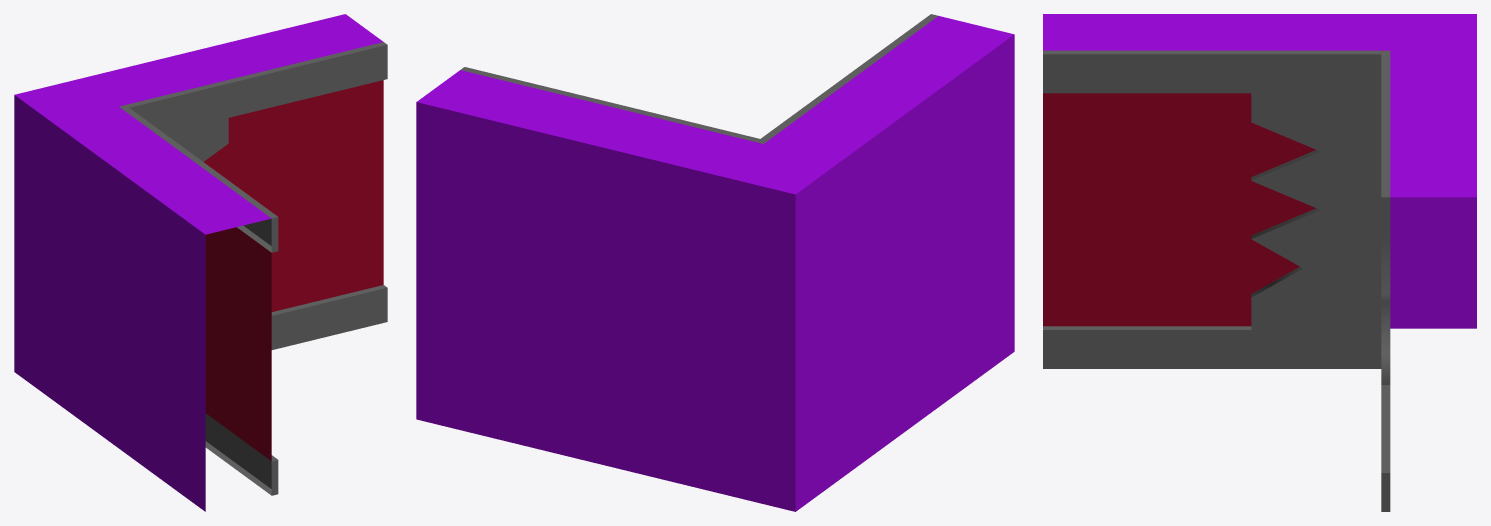
File: Wall_INCorner_X_1x1.fbx
3 renders of one model, left to right at view 1: azimuth 30°, elevation 25°; view 2: azimuth 150°, elevation 25°; view 3: azimuth 270°, elevation 25°, orthographic. The views are drawn at different scales.
Visible parts, largest first — view 1: Corner_In_1x6; view 2: Corner_In_1x6; view 3: Corner_In_1x6.
Boxes of the visible parts, x1,y1,x2,y2 form: Corner_In_1x6: (14, 14, 387, 511); Corner_In_1x6: (416, 14, 1014, 511); Corner_In_1x6: (1043, 14, 1476, 511).
Size of the model in its own units: 1.25 by 1 by 1.25.
